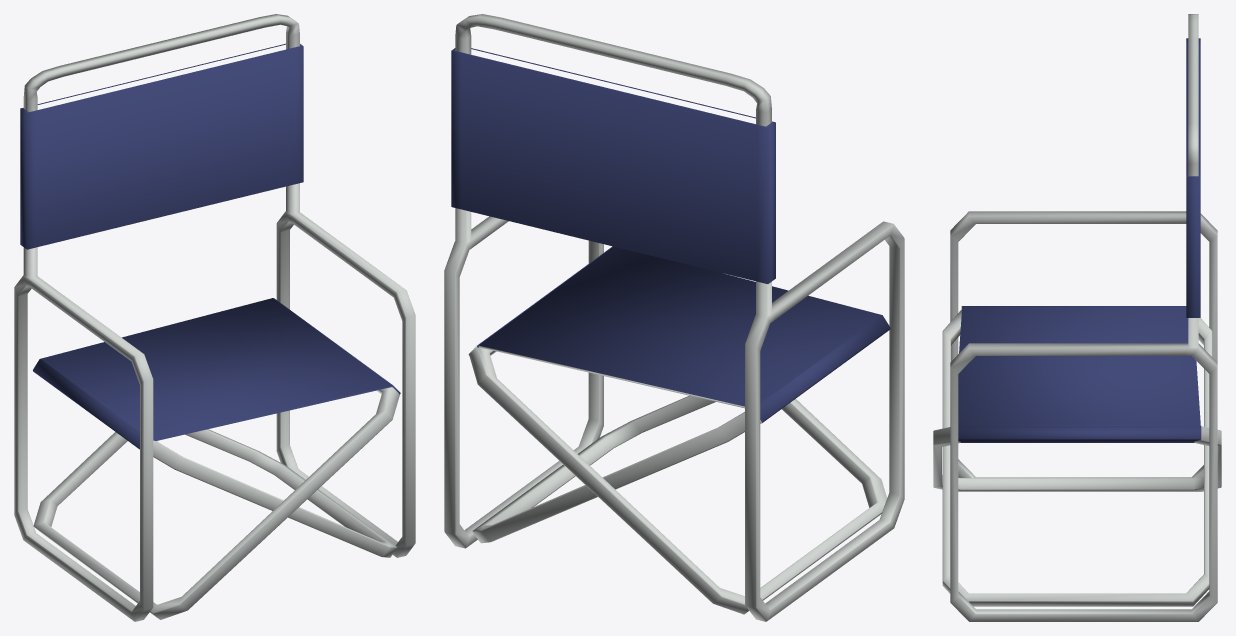
File: Chair_07.glb
The picture shows the model from 3 angles, left to right: view 1: azimuth 30°, elevation 25°; view 2: azimuth 150°, elevation 25°; view 3: azimuth 270°, elevation 25°; orthographic projection. The views are drawn at different scales.
Parts seen in each view (by area): view 1: Chair_07; view 2: Chair_07; view 3: Chair_07.
Boxes of the visible parts, left/top/right/bottom form: Chair_07: left=14, top=14, right=415, bottom=621; Chair_07: left=444, top=14, right=904, bottom=621; Chair_07: left=933, top=14, right=1221, bottom=621.
Size of what is drawn, in the model's own units: 0.9666 by 1.56 by 0.8464.
1 material, 1 textured.
